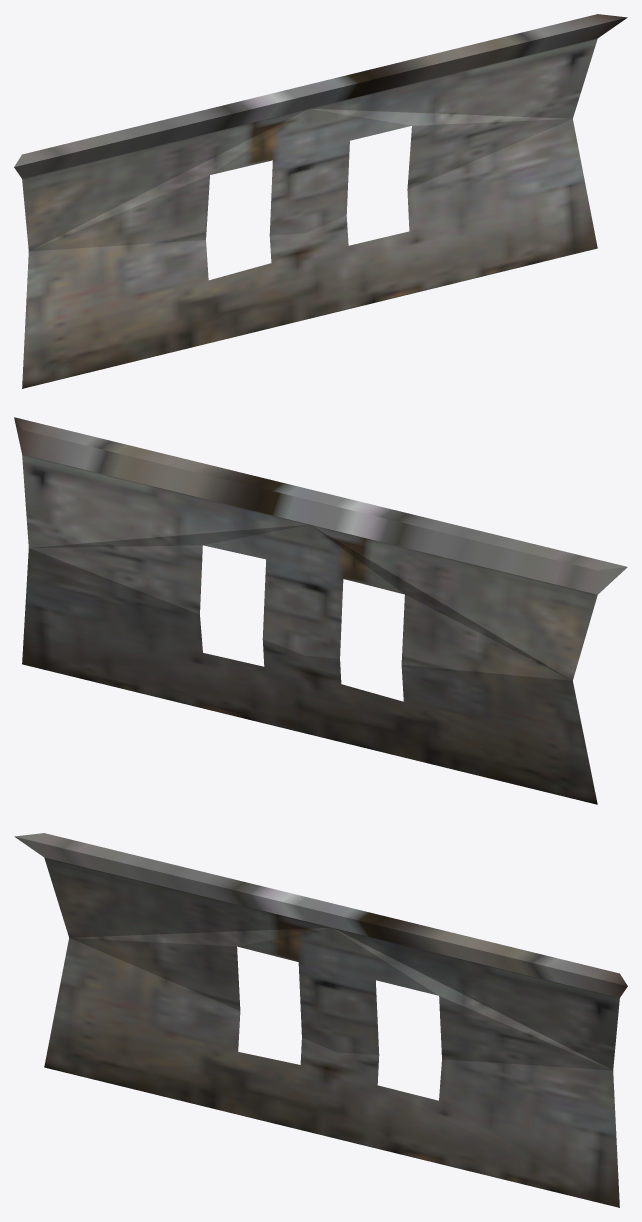
File: W_A1_xffx [Favellas]_1115.glb
3 renders of one model, top to bottom at view 1: azimuth 30°, elevation 25°; view 2: azimuth 150°, elevation 25°; view 3: azimuth 330°, elevation 25°, orthographic.
Visible parts, largest first — view 1: polySurfaceShape807, polySurfaceShape1019; view 2: polySurfaceShape807, polySurfaceShape1019; view 3: polySurfaceShape807, polySurfaceShape1019.
Part boxes in pixels (bbox=[...]): polySurfaceShape807: bbox=[22, 38, 597, 388]; polySurfaceShape1019: bbox=[14, 14, 627, 178]; polySurfaceShape807: bbox=[22, 454, 597, 804]; polySurfaceShape1019: bbox=[14, 417, 627, 594]; polySurfaceShape807: bbox=[44, 857, 619, 1207]; polySurfaceShape1019: bbox=[14, 833, 627, 997].
Bounding box in the file's own units: 1.07 × 0.3891 × 0.0607.
2 materials, 2 textured.
